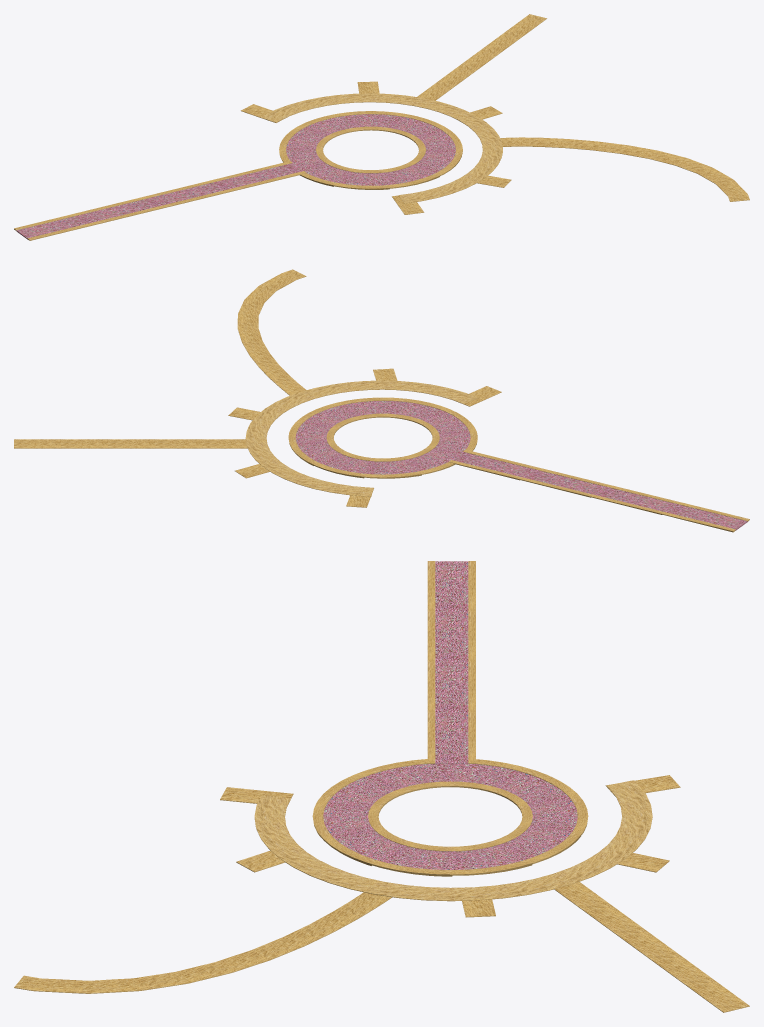
The model's file is paths.obj.
The picture shows the model from 3 angles, top to bottom: view 1: azimuth 30°, elevation 25°; view 2: azimuth 150°, elevation 25°; view 3: azimuth 270°, elevation 25°; orthographic projection. The views are drawn at different scales.
Visible parts, largest first — view 1: Road.001, Road, Cube, Cube.010, Cube.009; view 2: Road.001, Road, Cube, Cube.010, Cube.009; view 3: Road.001, Road, Cube, Cube.010, Cube.009.
Part boxes in pixels (left/top/right/bottom): Road.001: left=279, top=111, right=462, bottom=189; Road: left=14, top=161, right=306, bottom=240; Cube: left=260, top=93, right=502, bottom=203; Cube.010: left=500, top=137, right=749, bottom=201; Cube.009: left=417, top=14, right=546, bottom=100; Road.001: left=288, top=397, right=477, bottom=478; Road: left=449, top=449, right=749, bottom=532; Cube: left=245, top=380, right=478, bottom=496; Cube.010: left=237, top=269, right=306, bottom=395; Cube.009: left=14, top=439, right=247, bottom=448; Road.001: left=312, top=759, right=588, bottom=876; Road: left=427, top=561, right=475, bottom=763; Cube: left=254, top=780, right=652, bottom=901; Cube.010: left=14, top=892, right=392, bottom=993; Cube.009: left=554, top=881, right=749, bottom=1012.
Bounding box in the file's own units: 31.27 × 0.1101 × 21.59.
15 materials, 15 textured.
